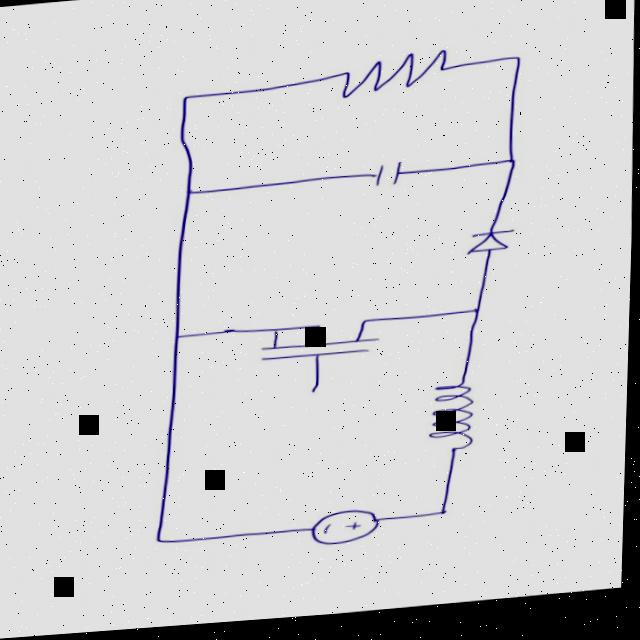capacitor: (337, 154, 435, 216)
diode: (446, 224, 530, 270)
inductor: (392, 372, 508, 479)
mosfet: (230, 296, 399, 413)
resistor: (313, 50, 478, 114)
source: (297, 500, 407, 559)
